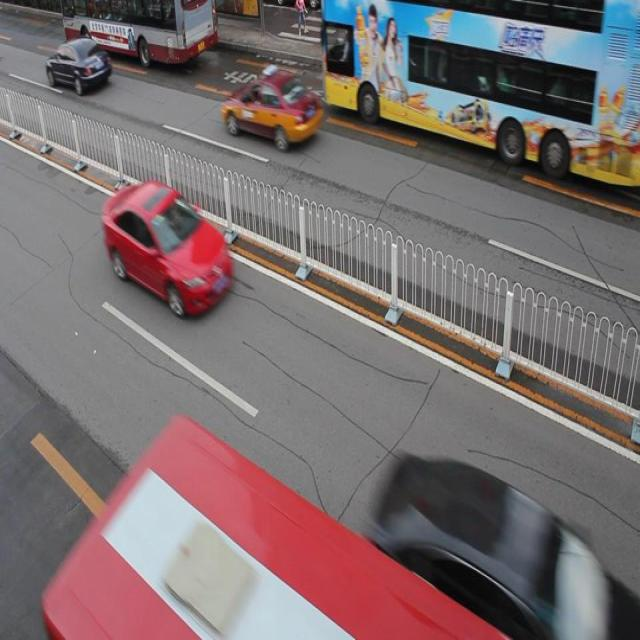car: (377, 449, 620, 640), (103, 179, 232, 316), (221, 68, 323, 150), (47, 36, 113, 94)
van: (47, 419, 507, 640), (321, 1, 640, 183), (61, 1, 217, 64)
